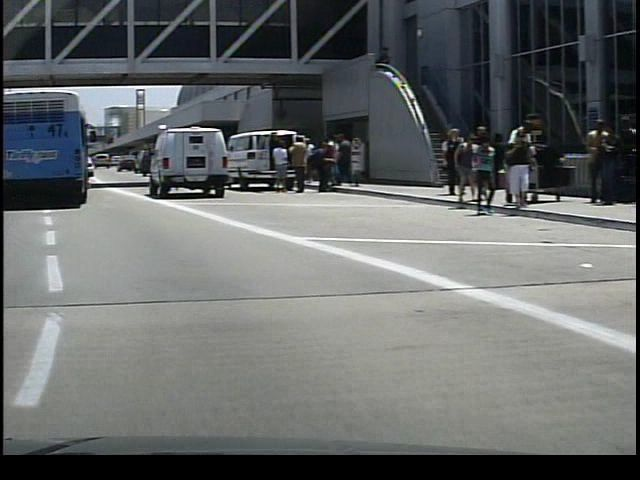person: (500, 119, 532, 212), (500, 128, 533, 213), (283, 133, 311, 196), (329, 132, 351, 186), (266, 134, 286, 193)
